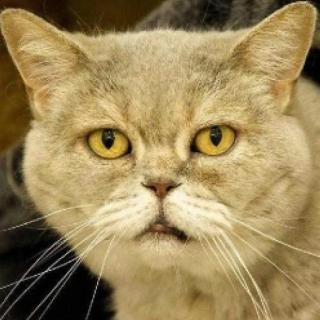cat: (2, 6, 313, 273)
nose: (136, 154, 190, 200)
